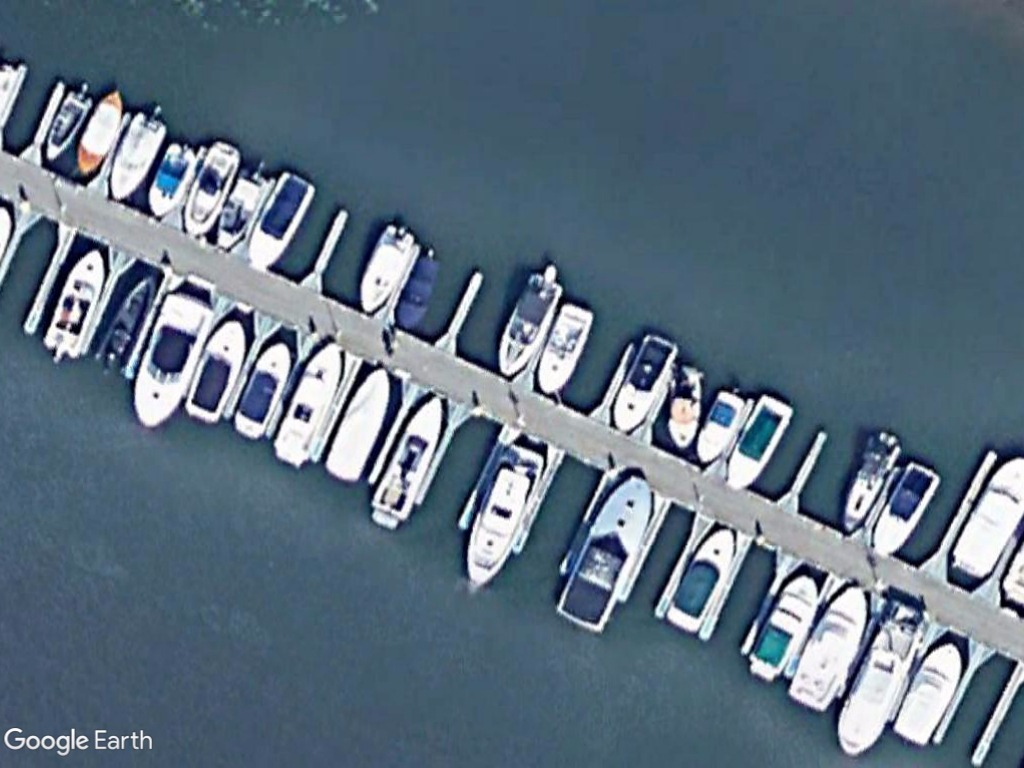boat: (550, 468, 656, 637), (460, 441, 546, 593), (130, 286, 216, 434), (365, 385, 448, 530), (787, 583, 873, 714), (269, 339, 345, 474), (659, 522, 742, 640), (321, 358, 395, 490), (887, 637, 970, 750), (744, 570, 821, 686), (606, 325, 684, 439), (236, 167, 318, 275), (182, 310, 258, 426), (491, 266, 567, 381), (37, 242, 108, 361), (718, 388, 797, 494), (866, 458, 940, 563), (834, 425, 907, 530), (349, 213, 421, 319), (532, 293, 600, 401), (230, 333, 298, 441), (177, 136, 243, 243), (103, 100, 170, 204), (97, 263, 160, 371), (210, 159, 278, 257), (70, 80, 129, 181), (689, 384, 752, 471), (38, 78, 96, 166), (146, 134, 202, 223)
